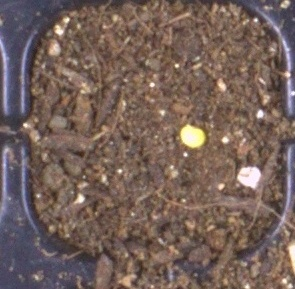chilli seed: (179, 123, 206, 148)
